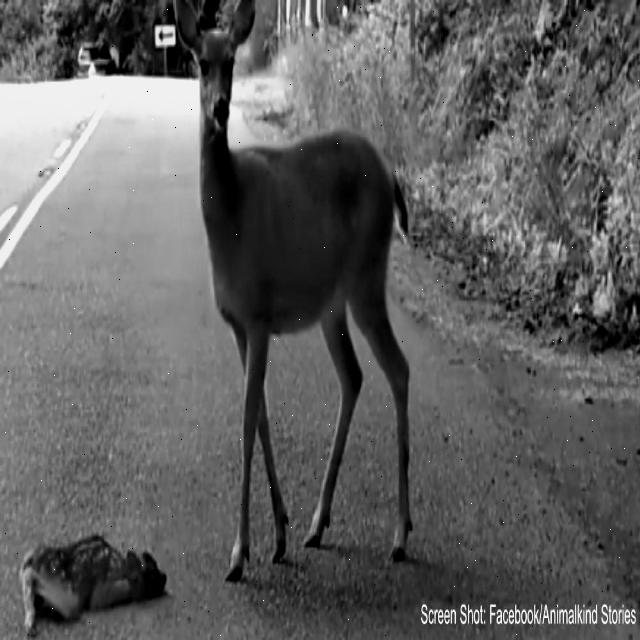deer: (175, 0, 425, 578)
